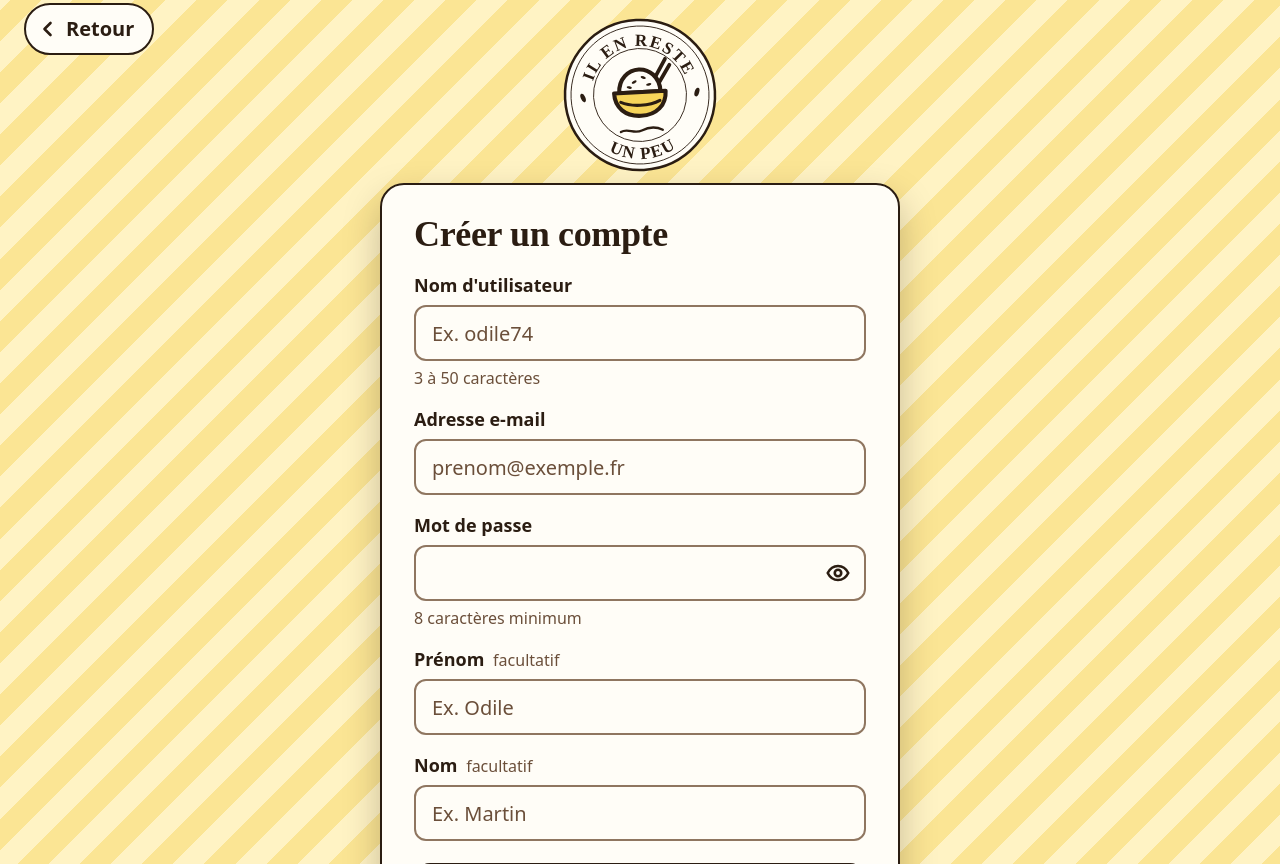
Test: RegisterScreen › what is checked before asking the server › asks for an address that looks like one, with an example
In the field labelled "Nom d'utilisateur": (640, 333) [414,305,866,361], type "odile74"
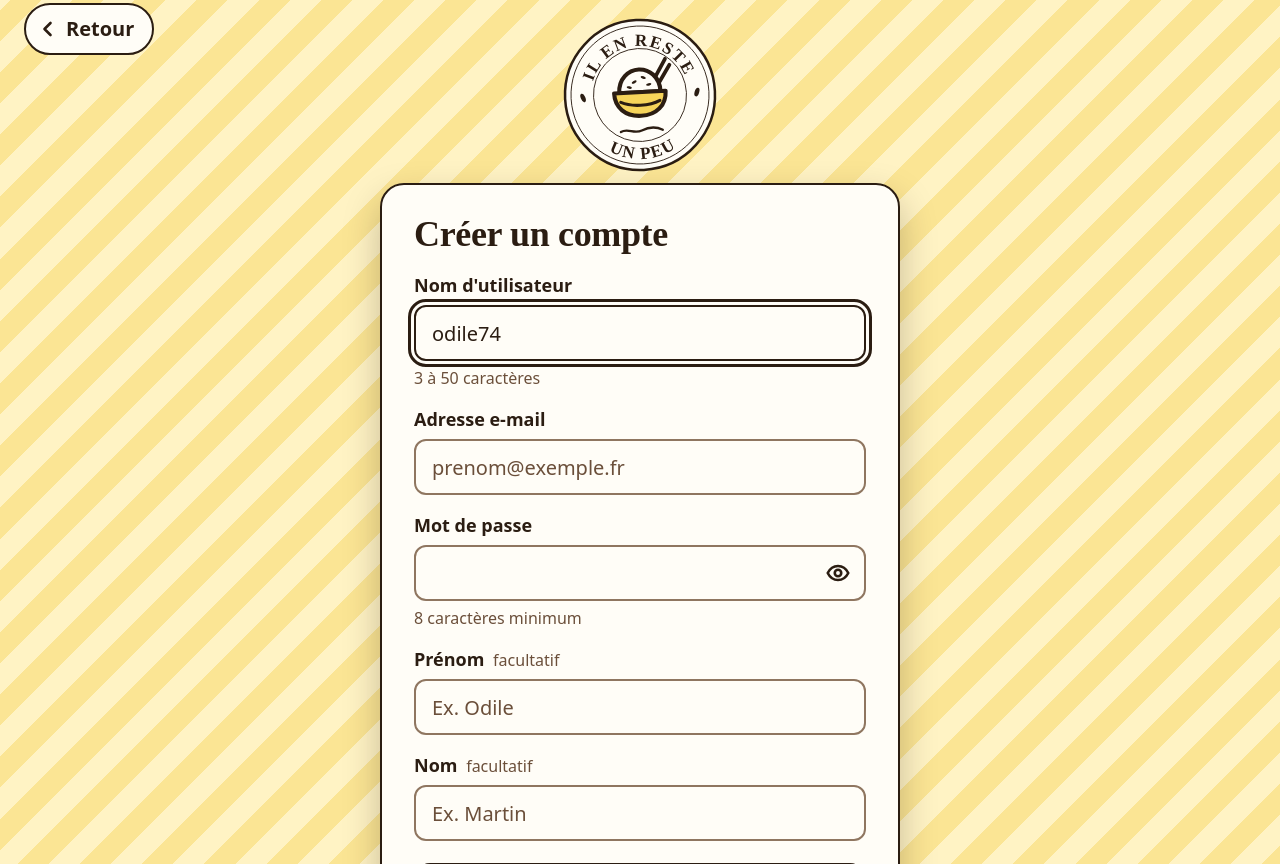
In the field labelled "Adresse e-mail": (640, 467) [414,439,866,495], type "odile@exemple"
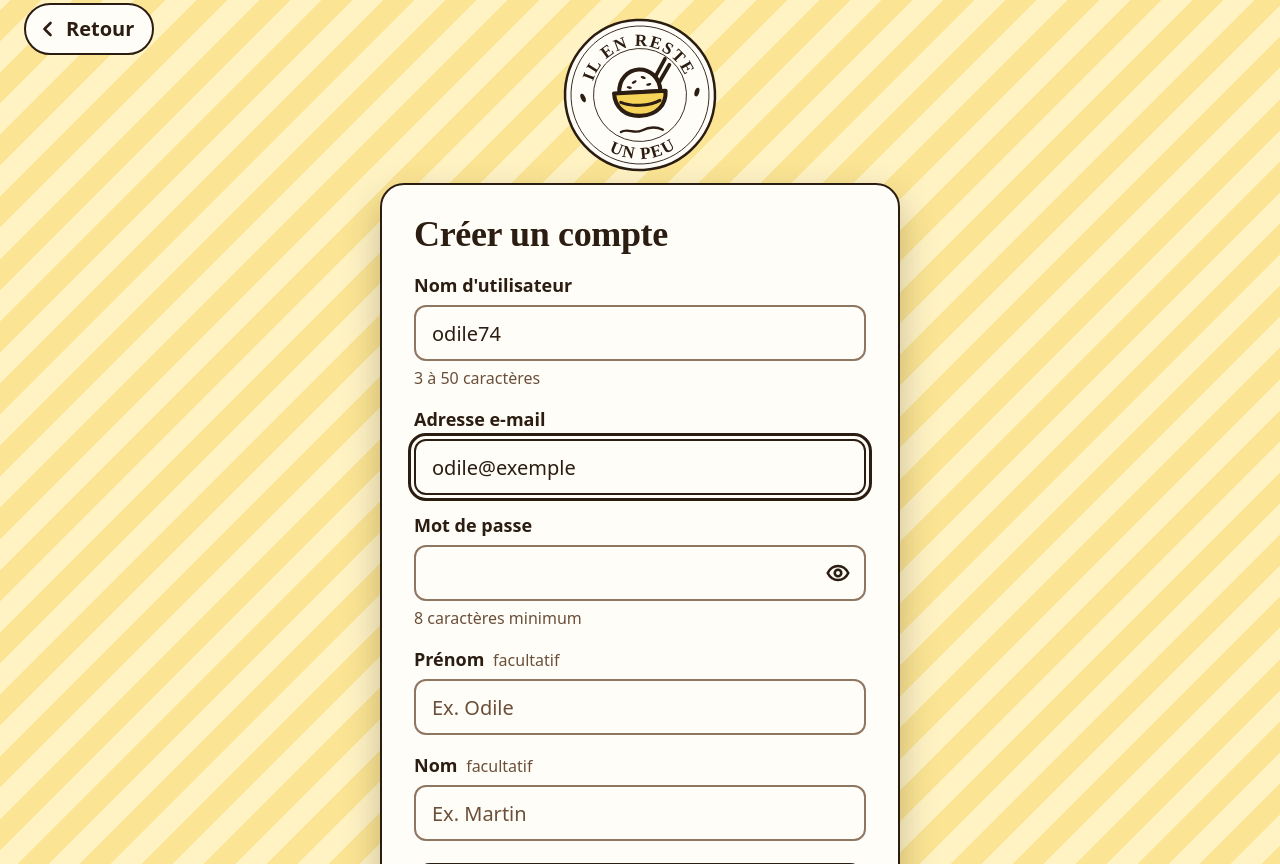
In the password field labelled "Mot de passe": (640, 573) [414,545,866,601], type "motdepasse"
(page scrolled)
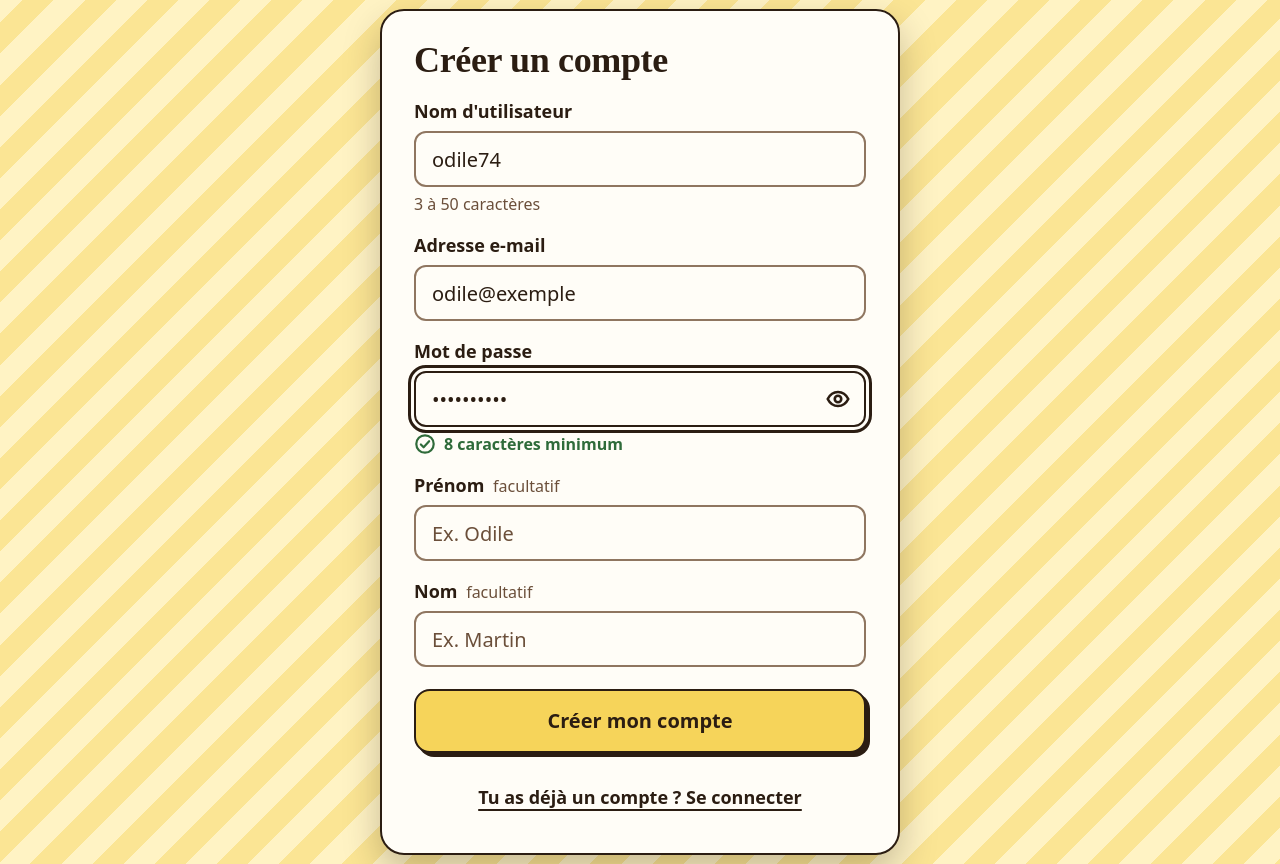
Click the button "Créer mon compte": (640, 721) [414,689,866,753]
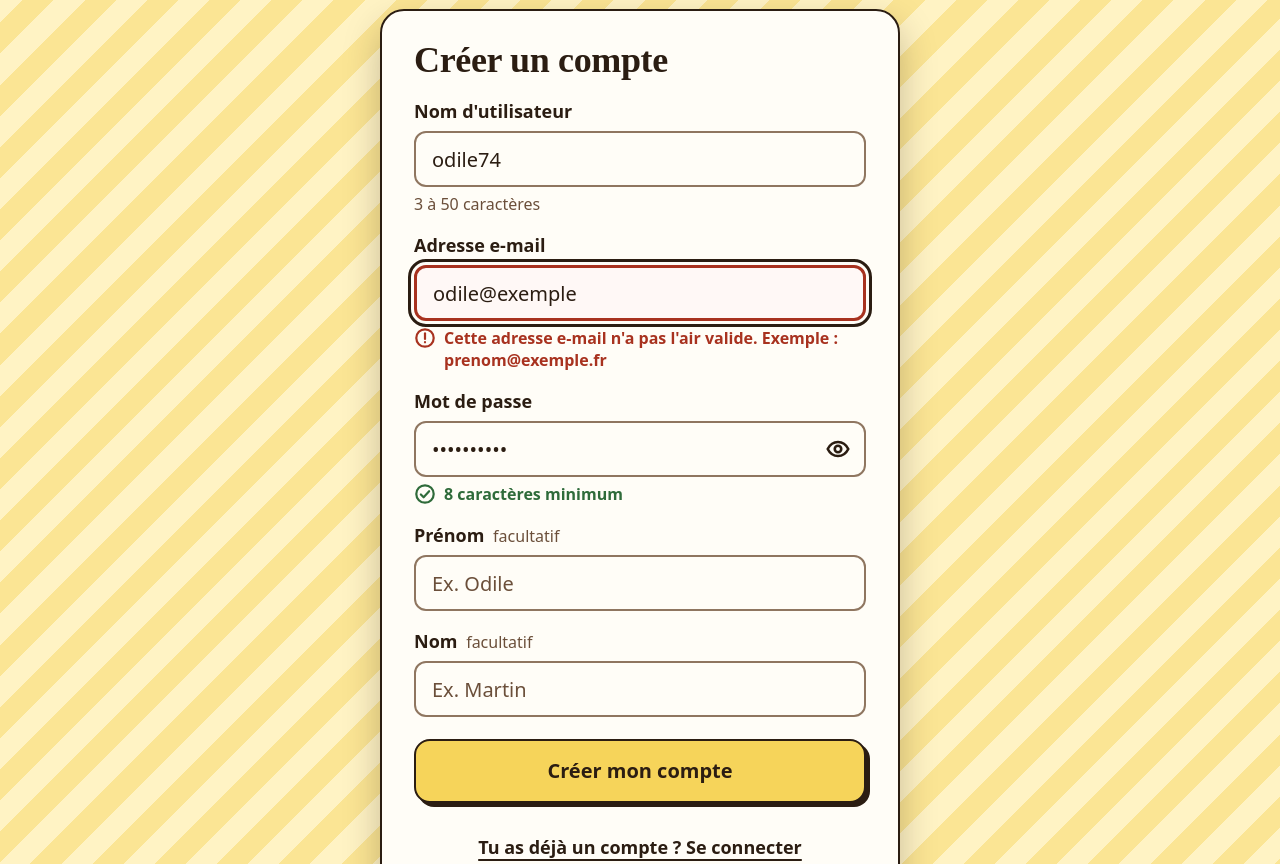
Expected: the text "Cette adresse e-mail n'a pas l'air valide. Exemple : prenom@exemple.fr" is shown, [414,327,866,371]
